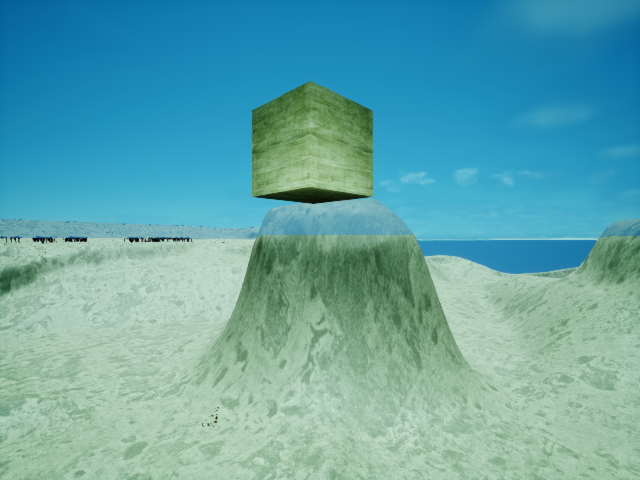Cube: (240, 78, 382, 212)
